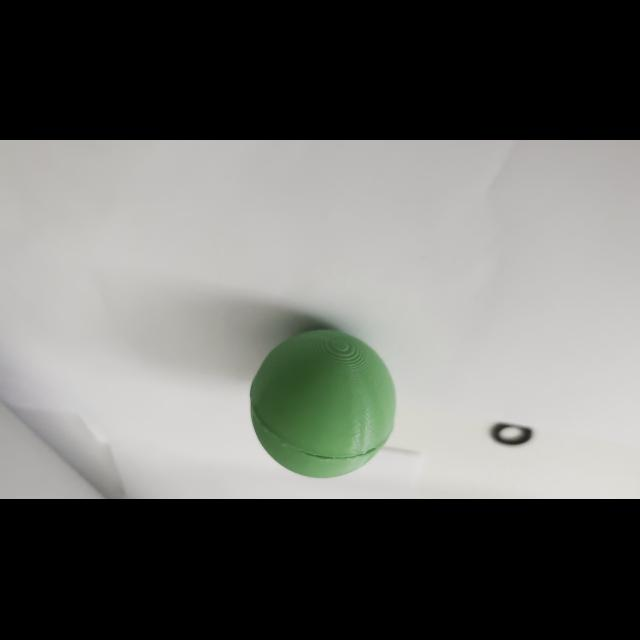objects: (246, 322, 400, 482)
